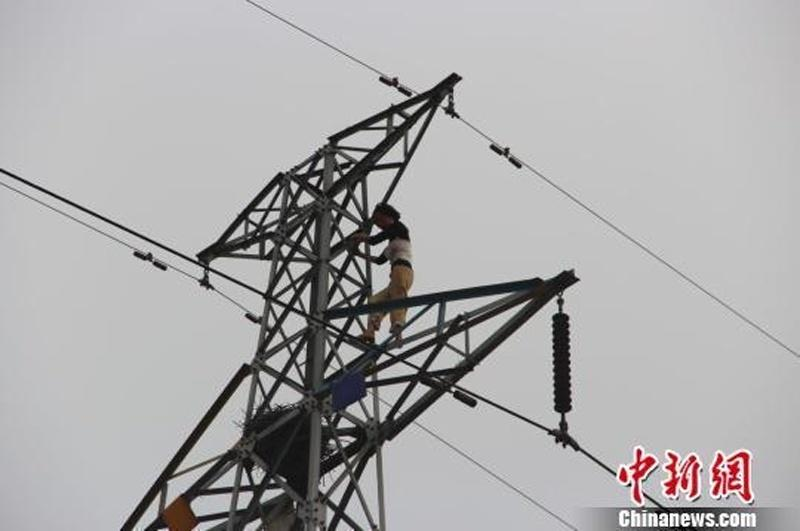power_tower: (157, 73, 557, 520)
